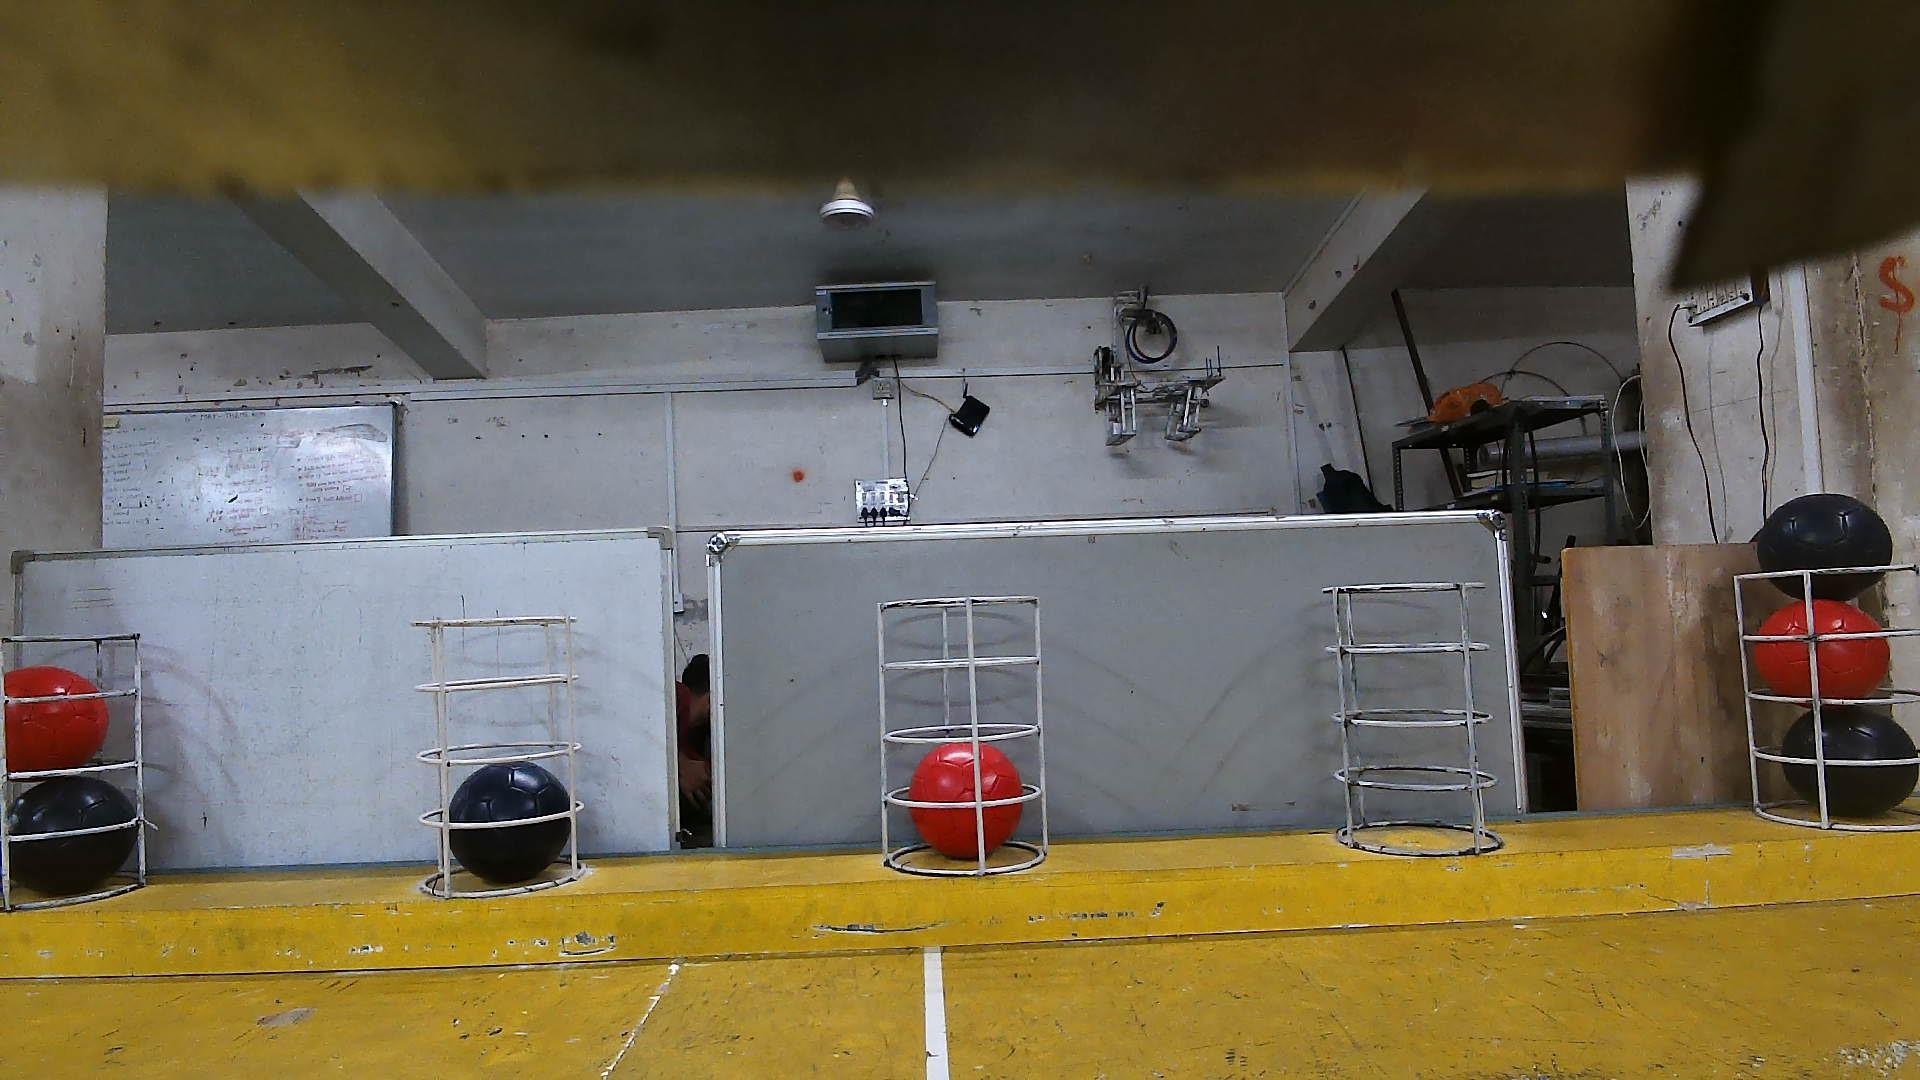dhoka: (9, 773, 138, 897), (1782, 705, 1919, 815), (450, 761, 571, 884), (1758, 495, 1892, 600)
laale: (1755, 599, 1891, 699), (910, 744, 1023, 858), (5, 666, 109, 771)
